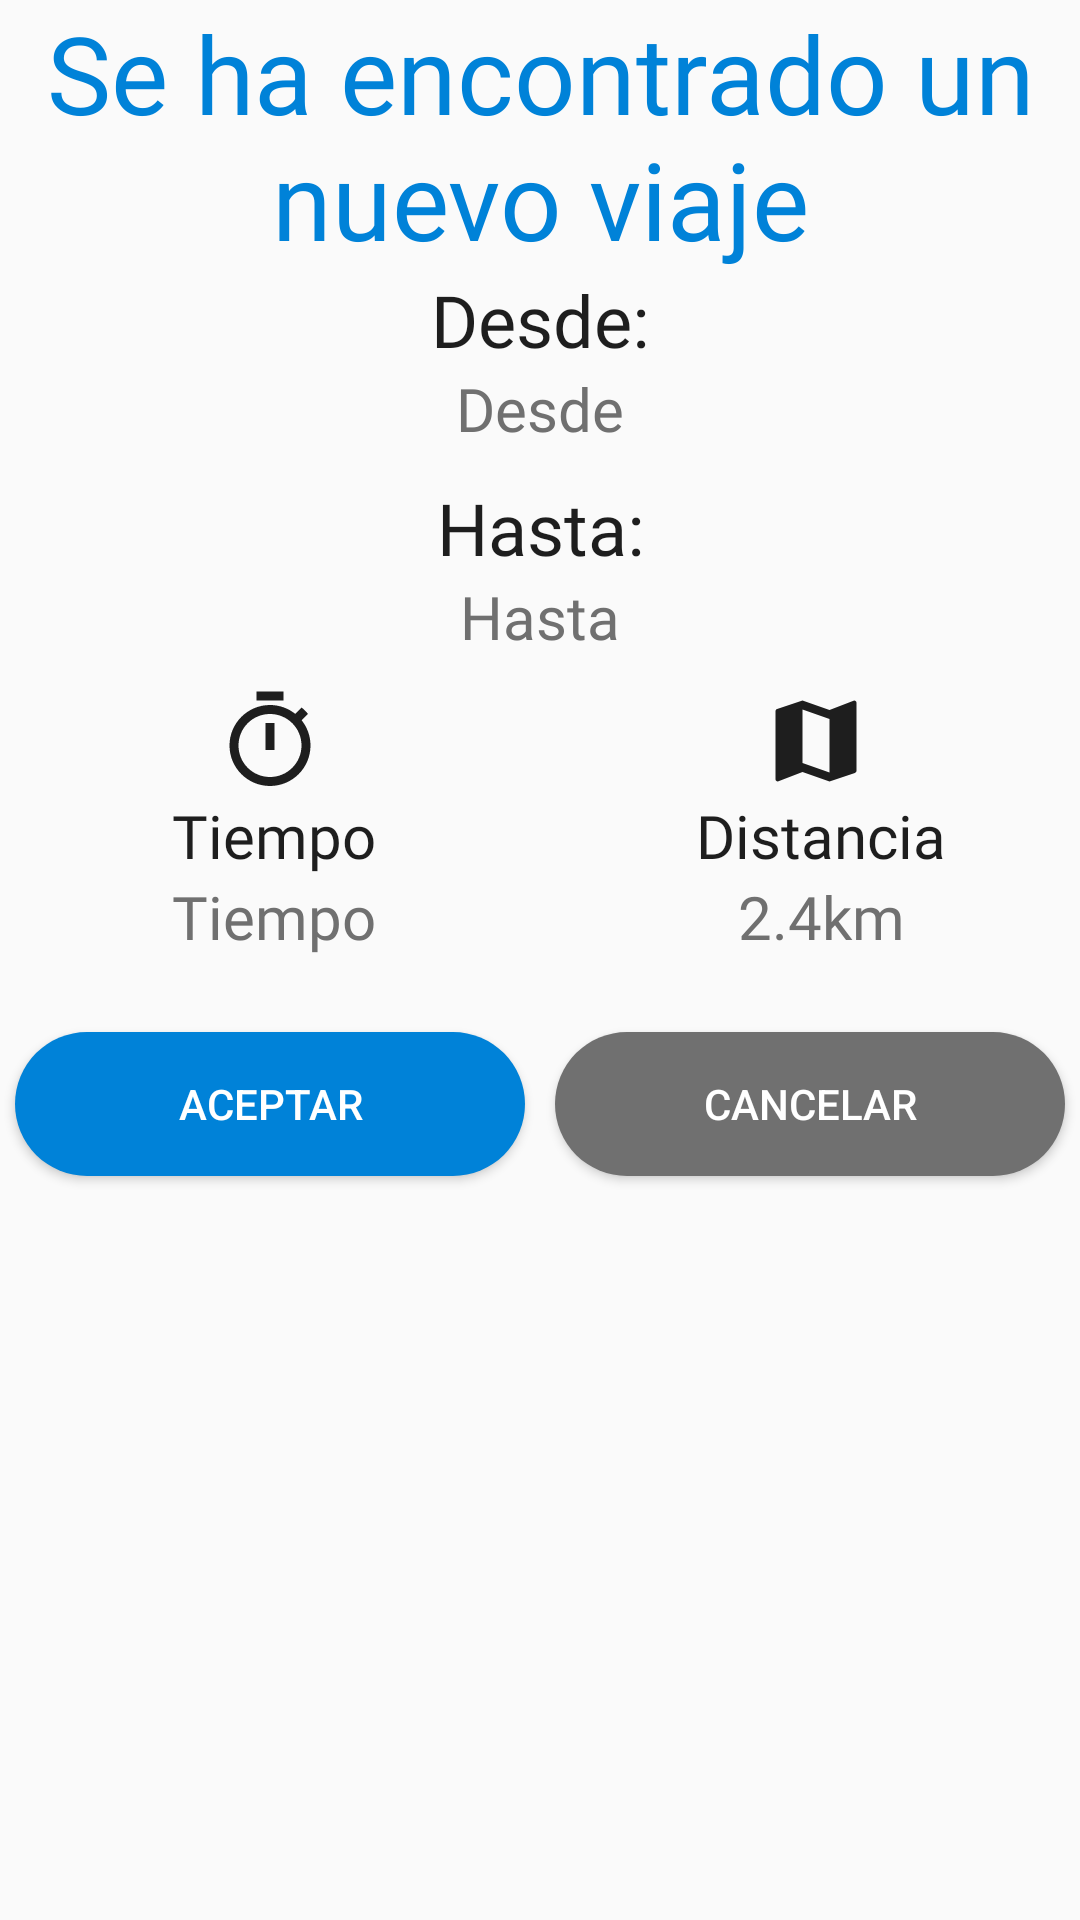

Where icons sit on this 1080px×1920px app screen, as box=[x1, y1, x2, y2]:
map: box=[775, 700, 857, 782]
timer: box=[229, 691, 311, 786]
